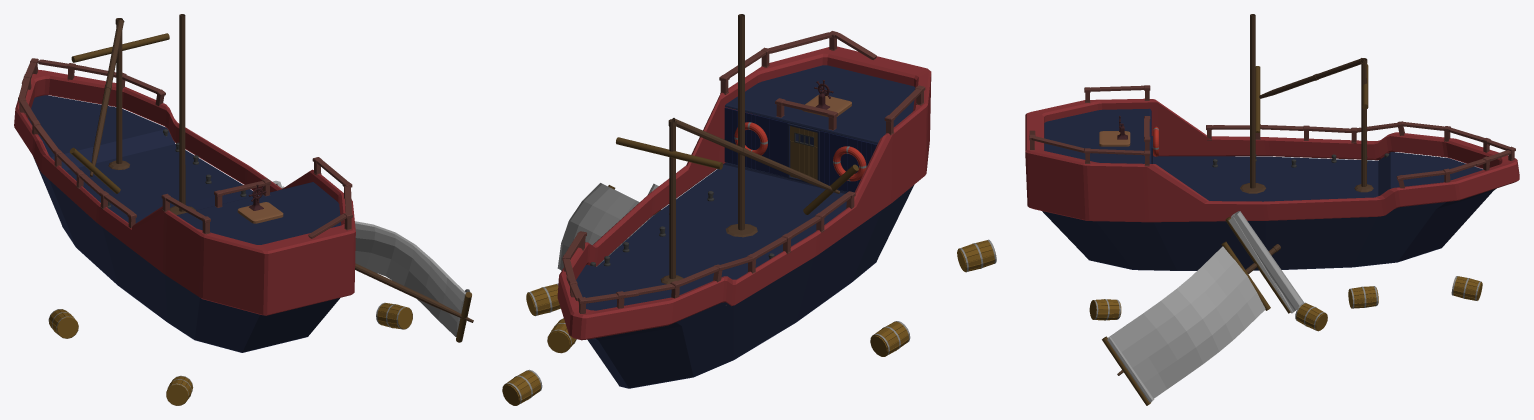
The model's file is Ship1.fbx.
3 renders of one model, left to right at view 1: azimuth 30°, elevation 25°; view 2: azimuth 150°, elevation 25°; view 3: azimuth 270°, elevation 25°, orthographic. The views are drawn at different scales.
Visible parts, largest first — view 1: Ship.001; view 2: Ship.001; view 3: Ship.001.
Boxes of the visible parts, x1,y1,x2,y2 form: Ship.001: (14, 14, 473, 405); Ship.001: (502, 14, 996, 405); Ship.001: (1025, 14, 1519, 405).
Bounding box in the file's own units: 1092 × 971 × 1465.
